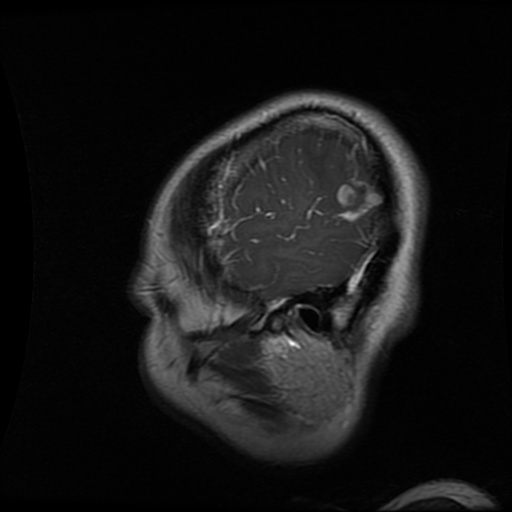glioma: (337, 183, 355, 206)
